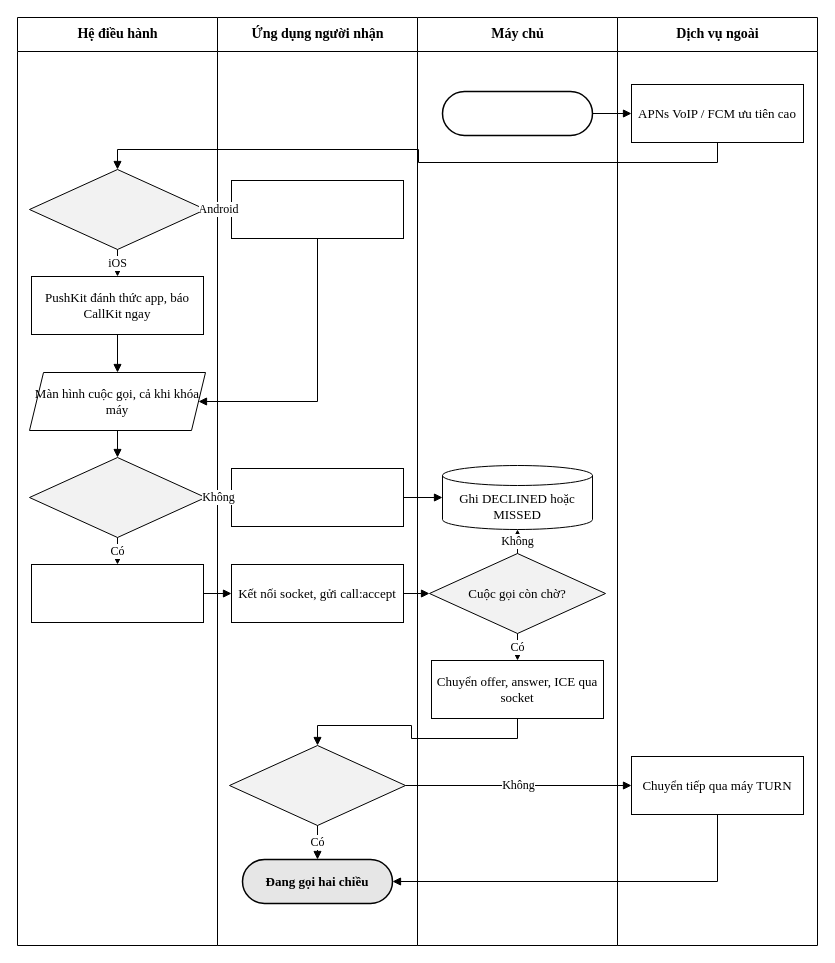
Image size: 835x963. Some labels were removed from this diagram. The shapes that lost their labels are listed below. From the top down, each one's centre as x and y in pixels, then its label:
At (517,113): "Có cuộc gọi tới".
At (117,209): "iOS hay Android?".
At (317,209): "Xử lý FCM nền, mở ConnectionService".
At (117,497): "Bắt máy?".
At (317,497): "Gửi call:decline".
At (117,593): "Mở app, bật micro/camera".
At (317,785): "Nối thẳng được (STUN)?".
